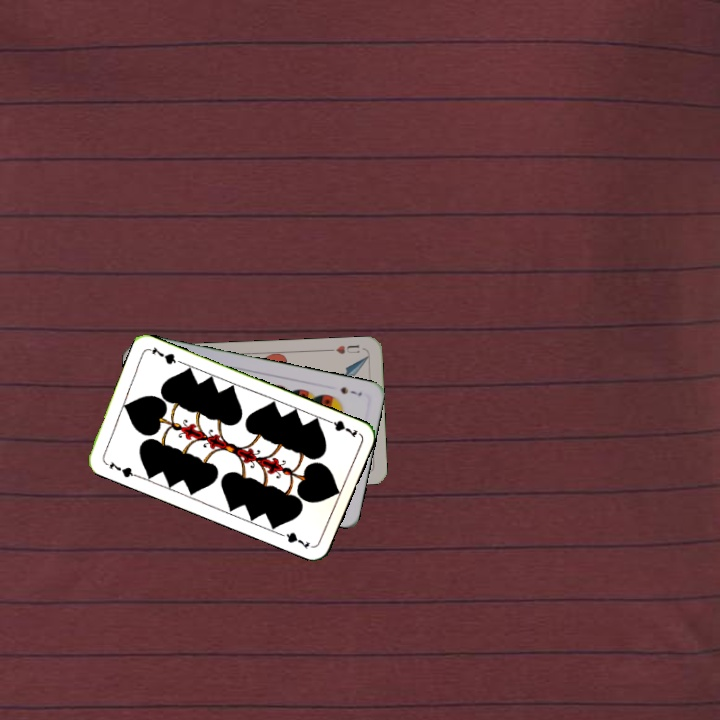G7: (321, 415, 360, 440), (100, 457, 140, 480)
HU: (332, 341, 362, 357)
S7: (336, 383, 364, 398)
